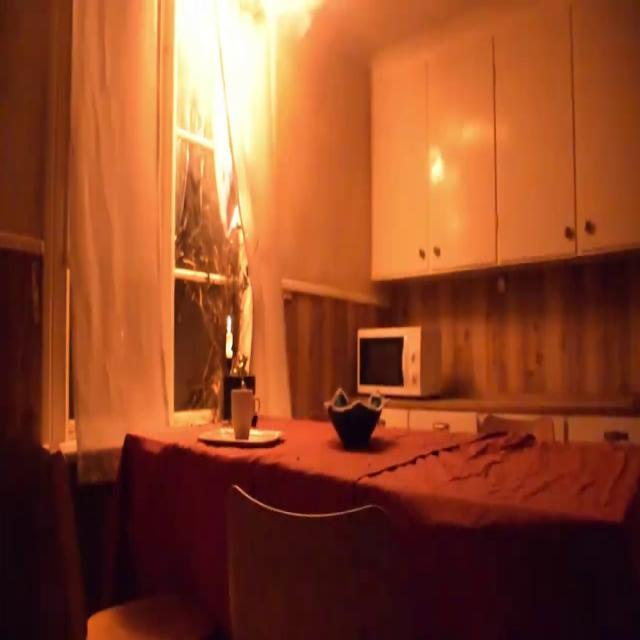Fire: (170, 0, 323, 213)
